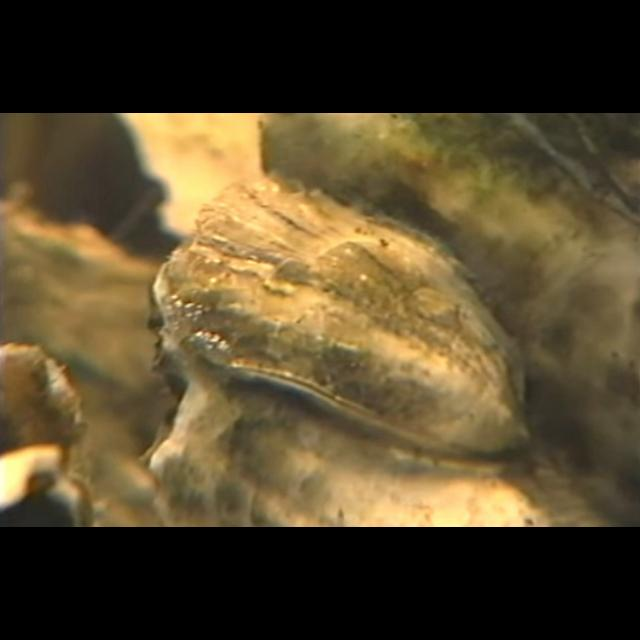Oyster-Closed: (169, 180, 527, 454), (0, 343, 94, 526)
Oyster-Open: (138, 262, 544, 526)
